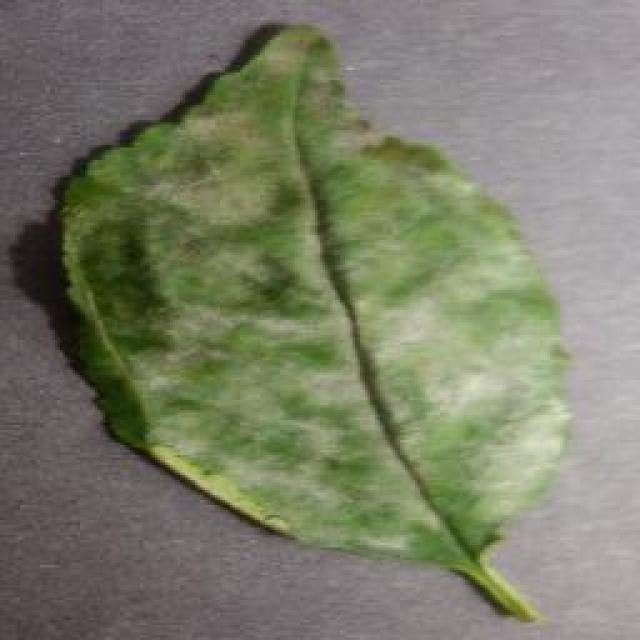Cherry___Powdery_mildew: (96, 54, 553, 531)
